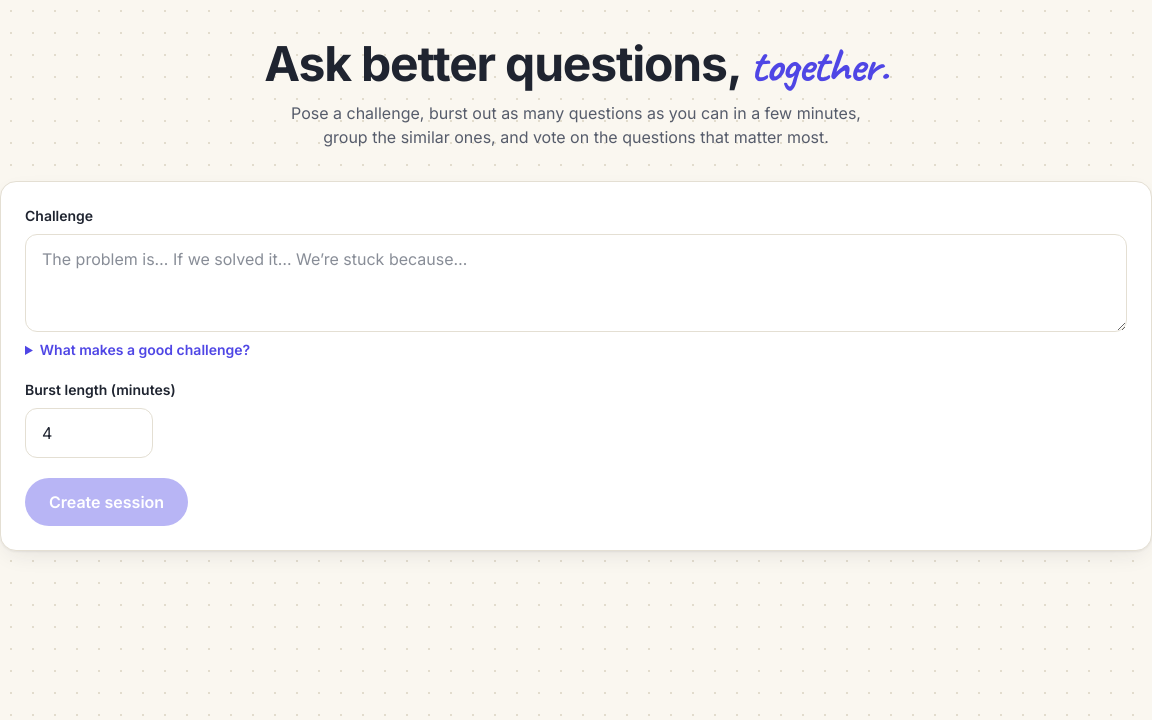
Test case: CreateSession › offers tips on what makes a good challenge
The image size is (1152, 720).
Click the heading "What makes a good challenge?" at (138, 350), box [25,340,250,360]
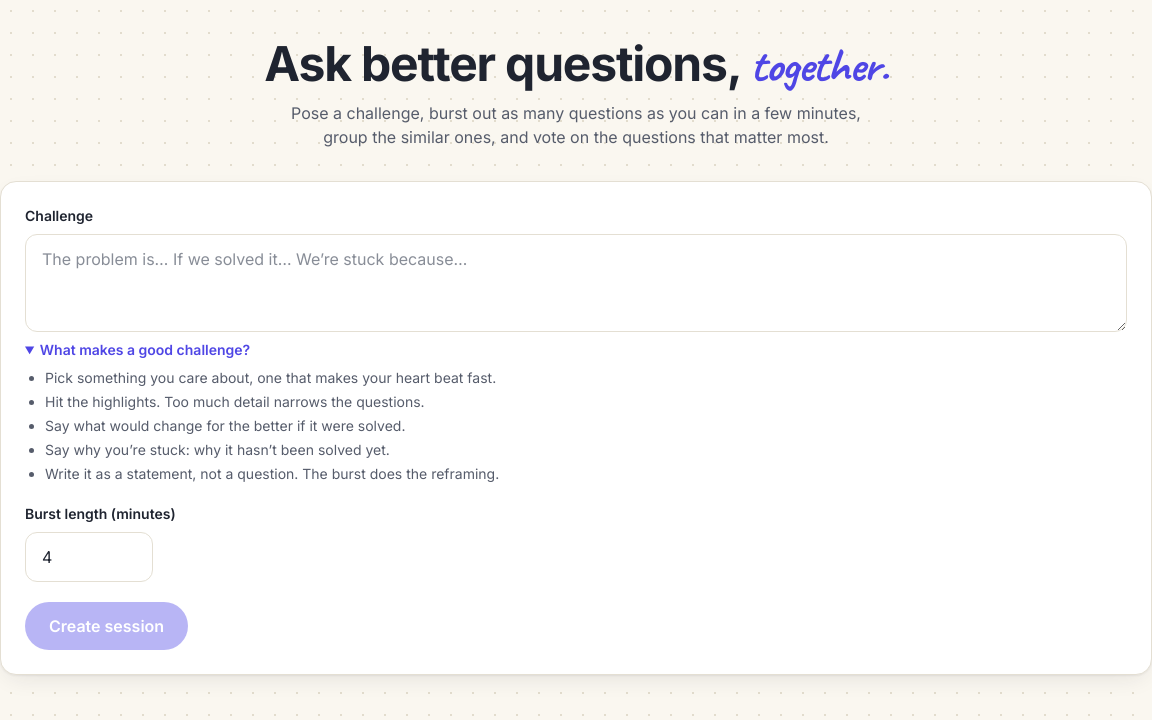
Expected: the list item "Write it as a statement, not a question. The burst does the reframing." is shown, [45,465,499,482]
